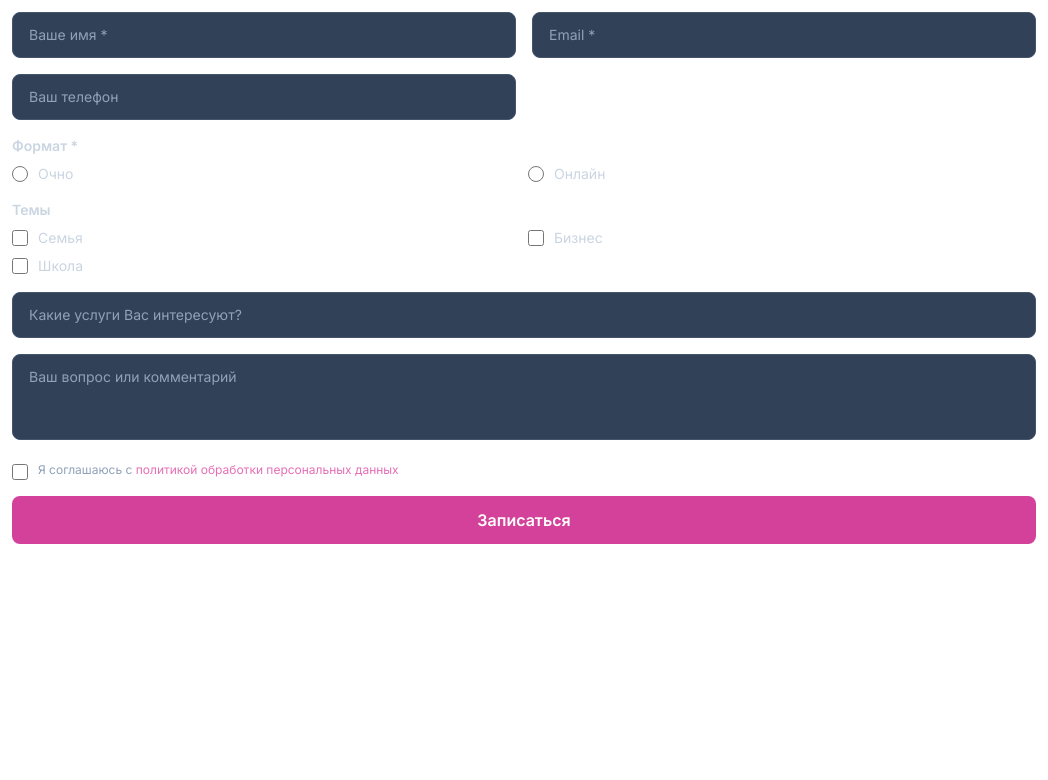
Test case: SiteForm › sends every answer, all ticked options together, with what the form is for
Type "Анна" into the field labelled "Ваше имя". click: (264, 35)
box: [12,12,516,58]
Type "anna@example.by" into the field labelled "Email". click: (784, 35)
box: [532,12,1036,58]
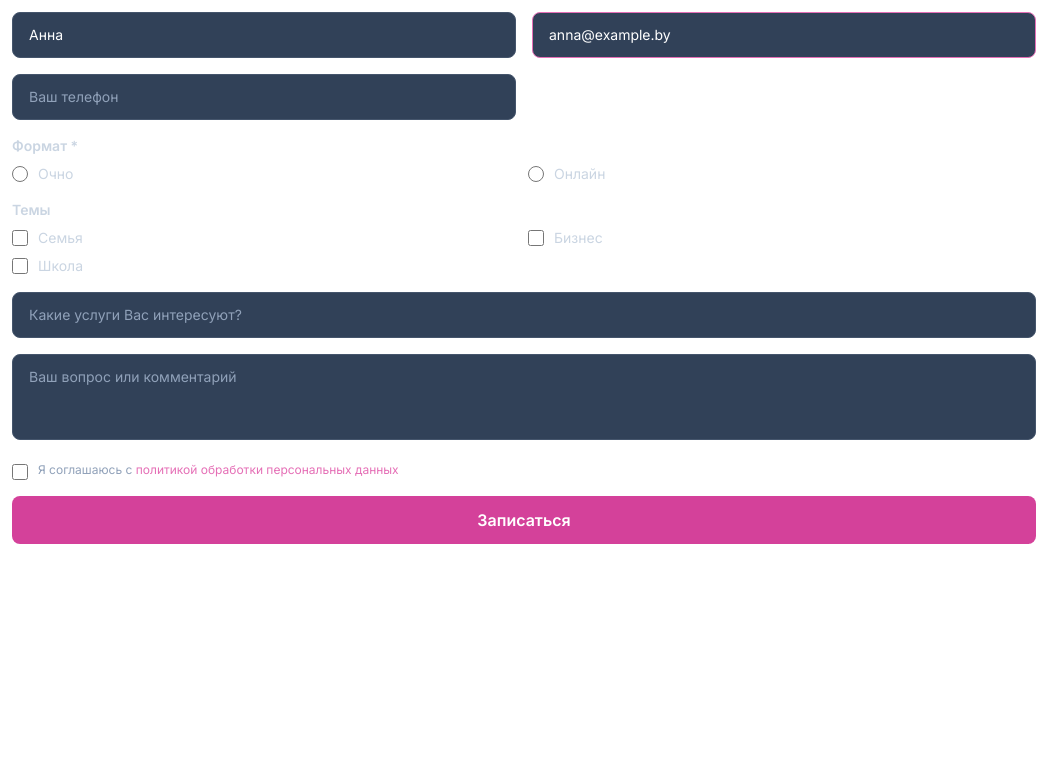
Click the radio button labelled "Онлайн". click: click(536, 174)
box: [528,166,544,182]
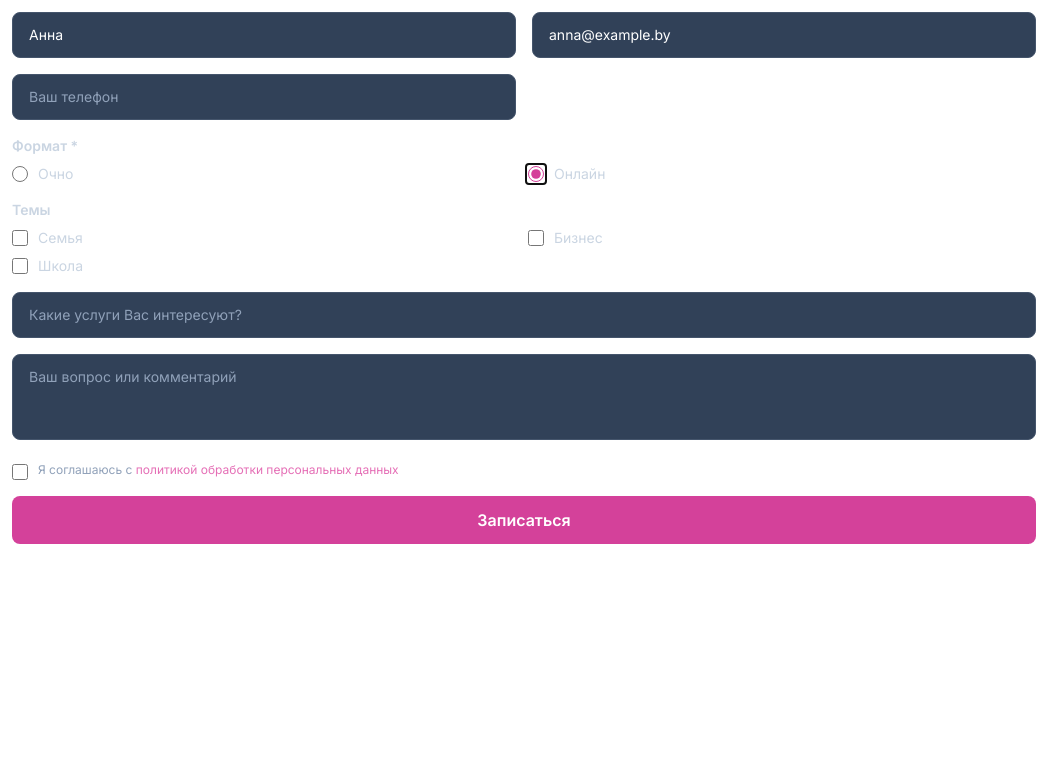
Click the checkbox labelled "Семья". click: click(20, 238)
box: [12,230,28,246]
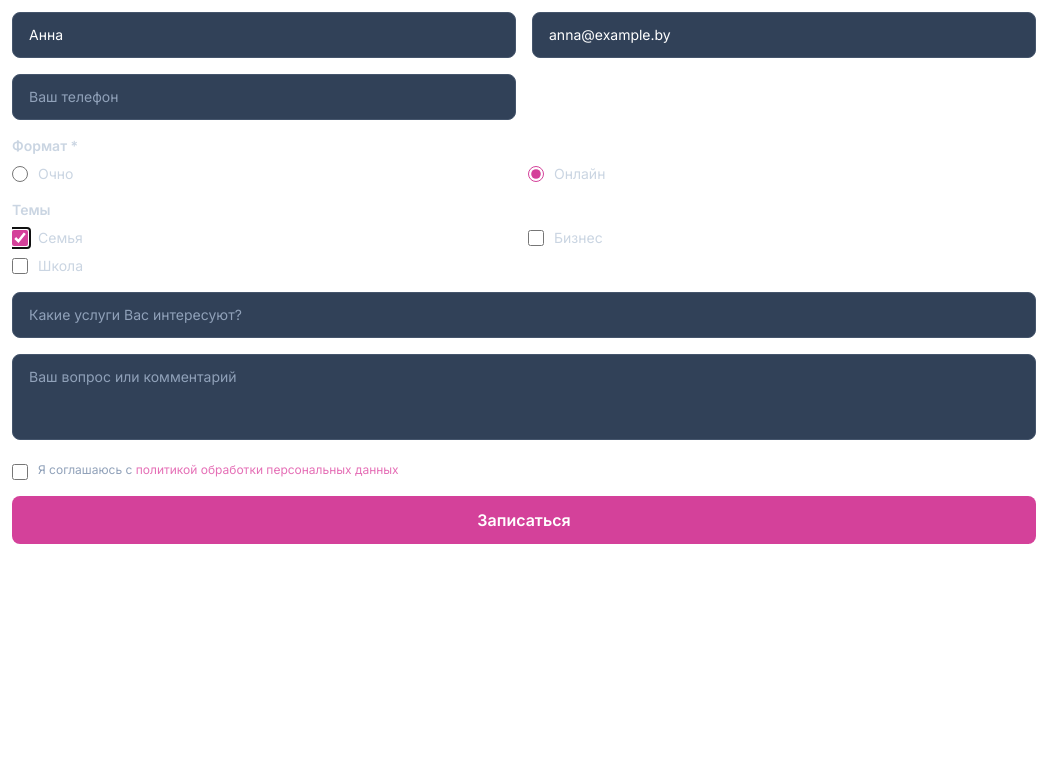
Click the checkbox labelled "Школа". click: click(20, 266)
box: [12,258,28,274]
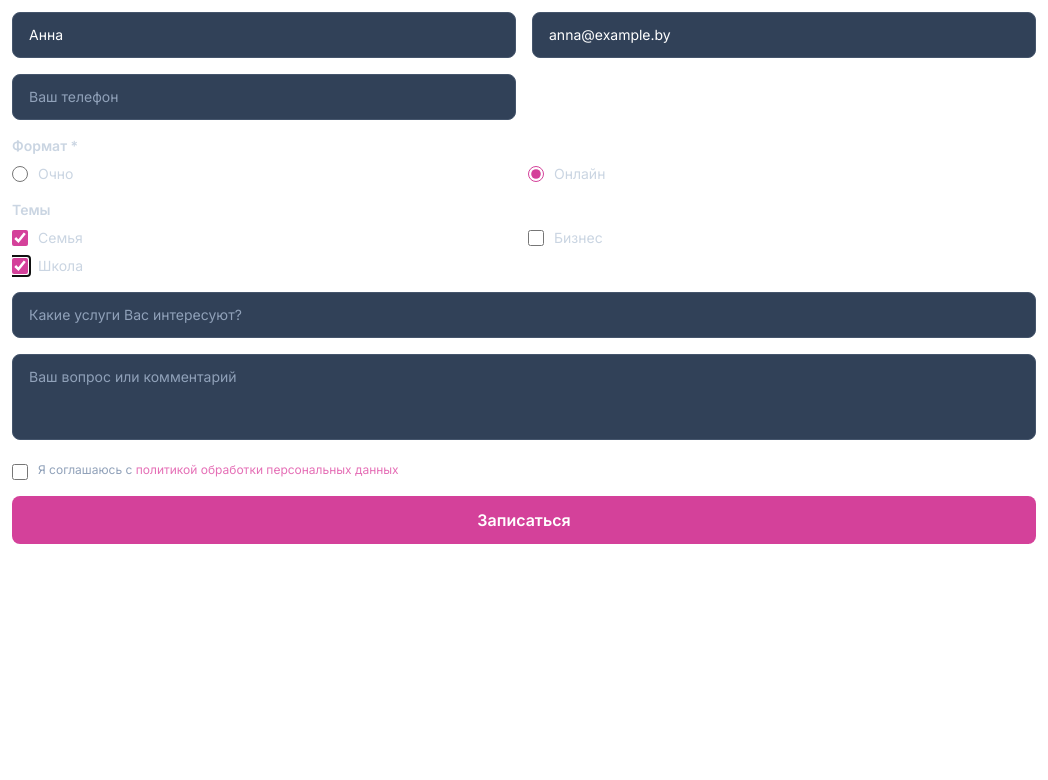
Click the checkbox labelled "Я соглашаюсь с политикой обработки персональных данных". click: click(20, 472)
box: [12,464,28,480]
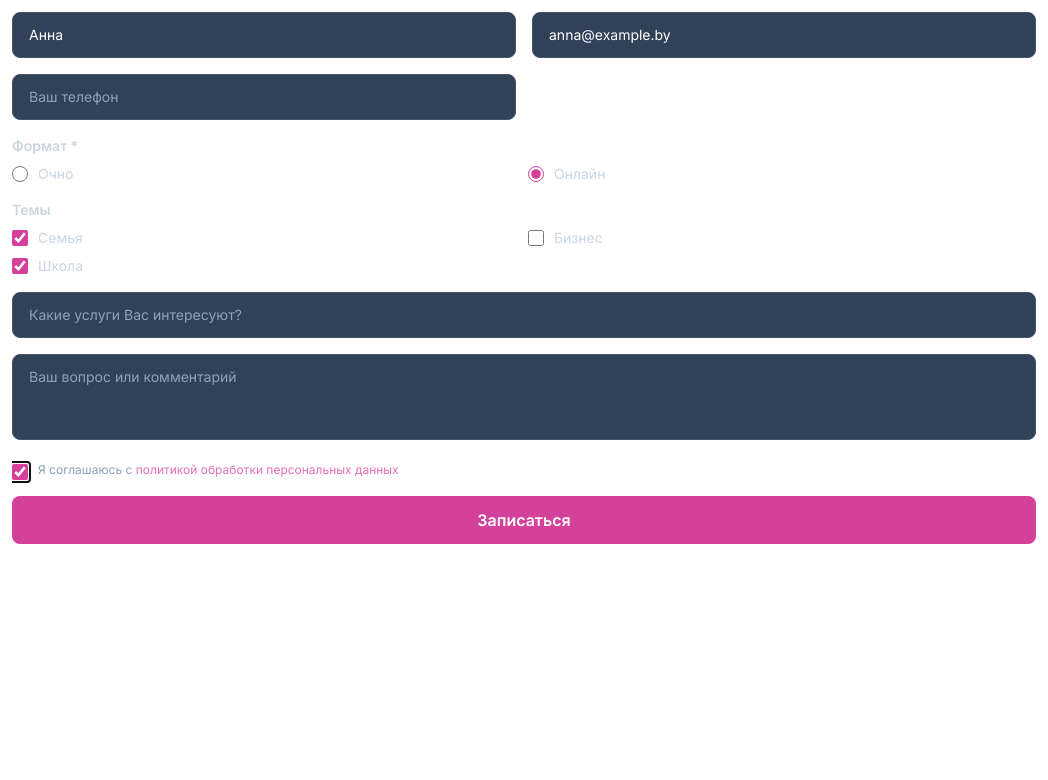
Click the button "Записаться". click: click(524, 520)
box: [12,496,1036,544]
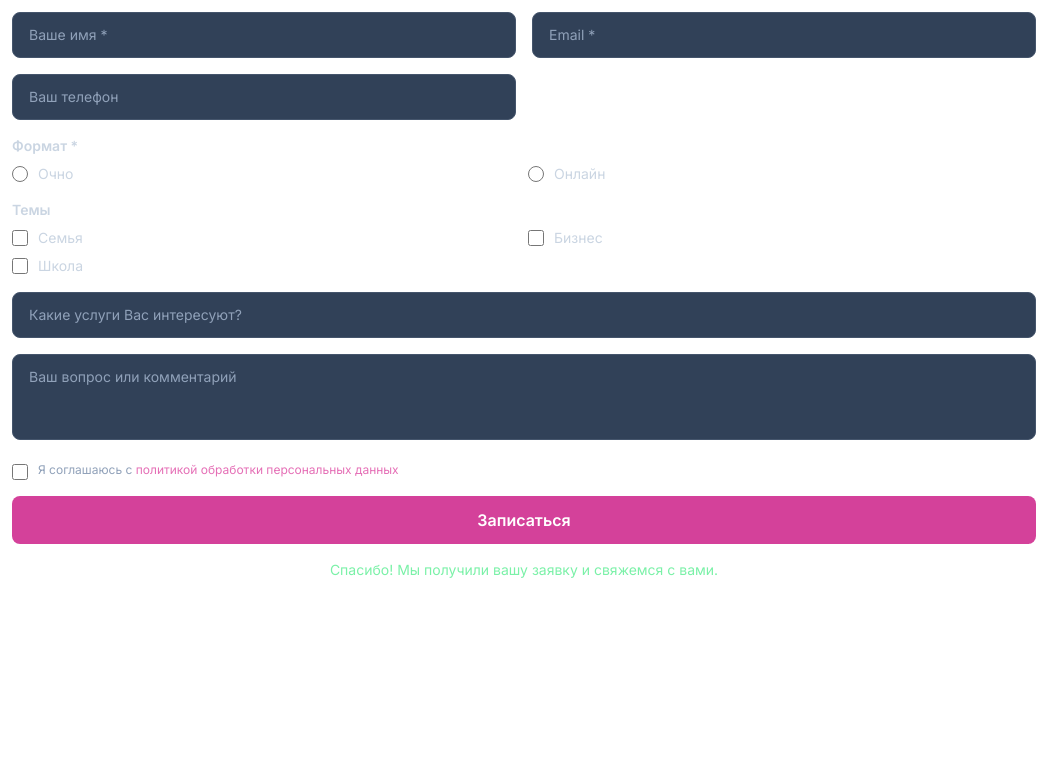
Expected: the text "Спасибо! Мы получили вашу заявку и свяжемся с вами." is shown, [330,561,718,578]
Expected: the field labelled "Ваше имя" is empty, [12,12,516,58]
